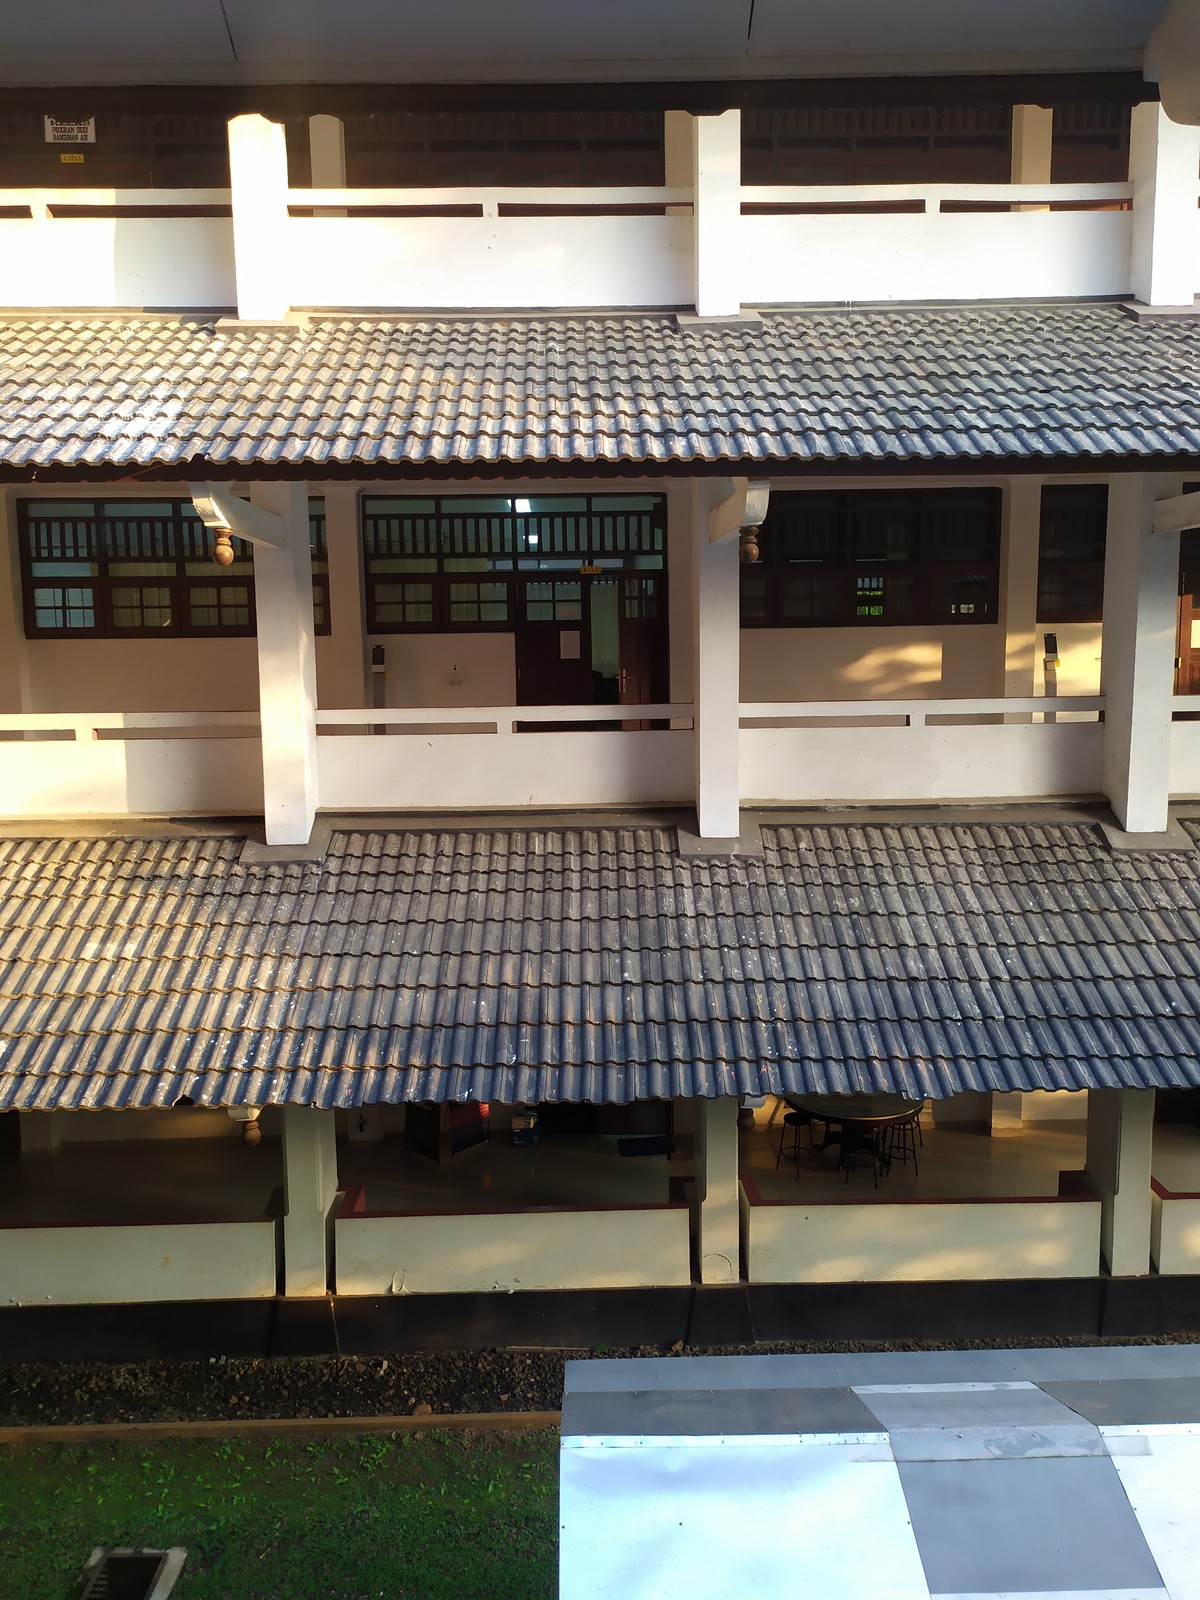concrete column: (241, 486, 337, 855), (1095, 483, 1179, 837), (684, 488, 753, 844)
